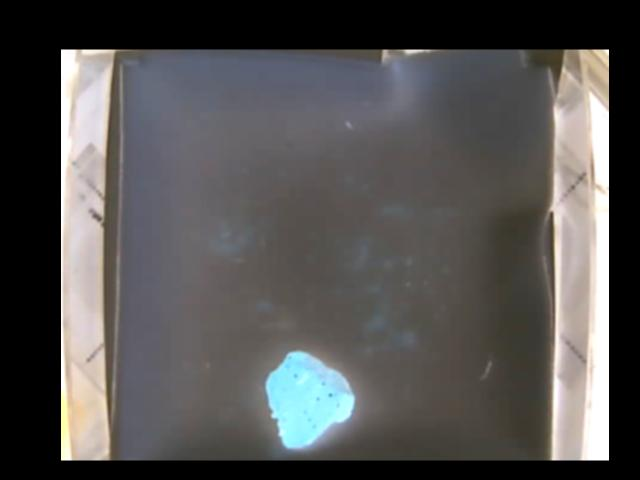Brisk: (264, 350, 353, 449)
